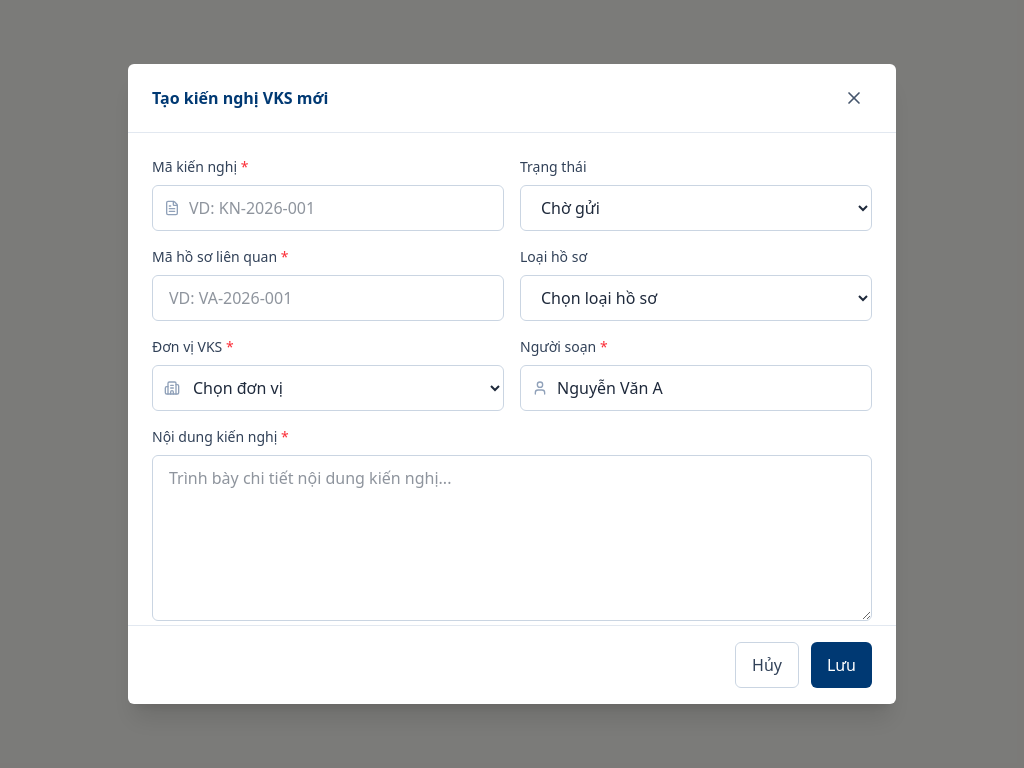
Scenario: Lưu kiến nghị VKS thất bại › lỗi mạng (không có thân phản hồi) vẫn báo thất bại
The image size is (1024, 768).
In the field with placeholder "VD: KN-2026-001": (328,208) [152,185,504,231], type "nội dung kiểm thử"
In the field with placeholder "VD: VA-2026-001": (328,298) [152,275,504,321], type "nội dung kiểm thử"
Replace the text in the field below "Người soạn" with "nội dung kiểm thử": (696,388) [520,365,872,411]
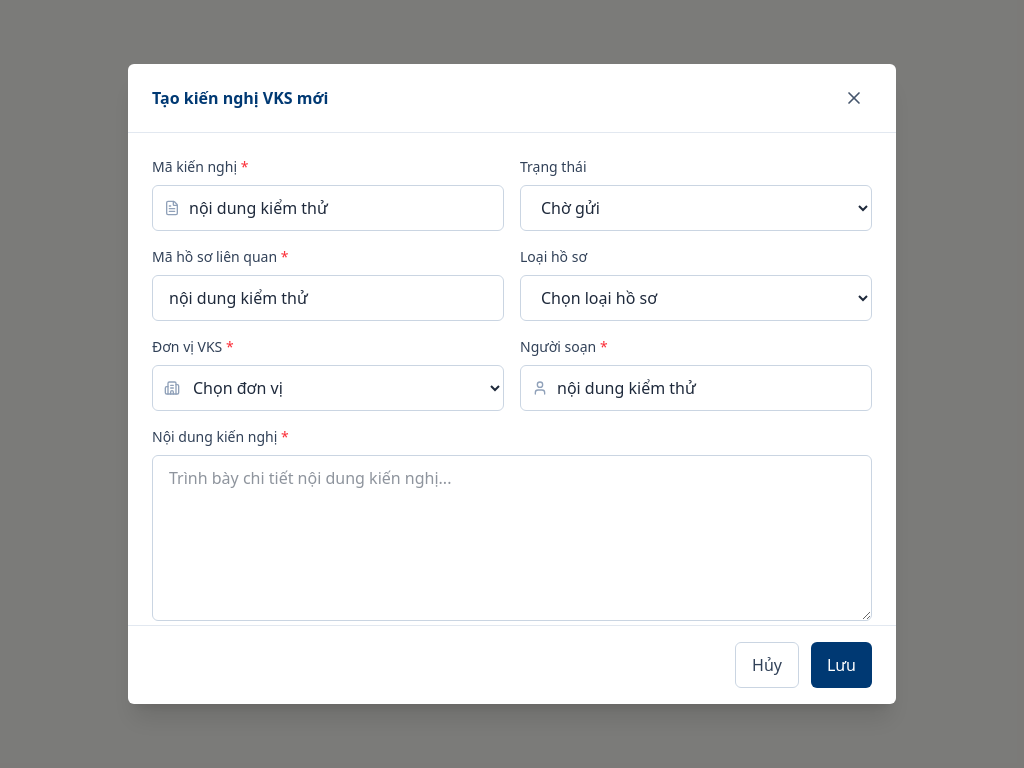
In the text box: (512,538) [152,455,872,621], type "nội dung kiểm thử"
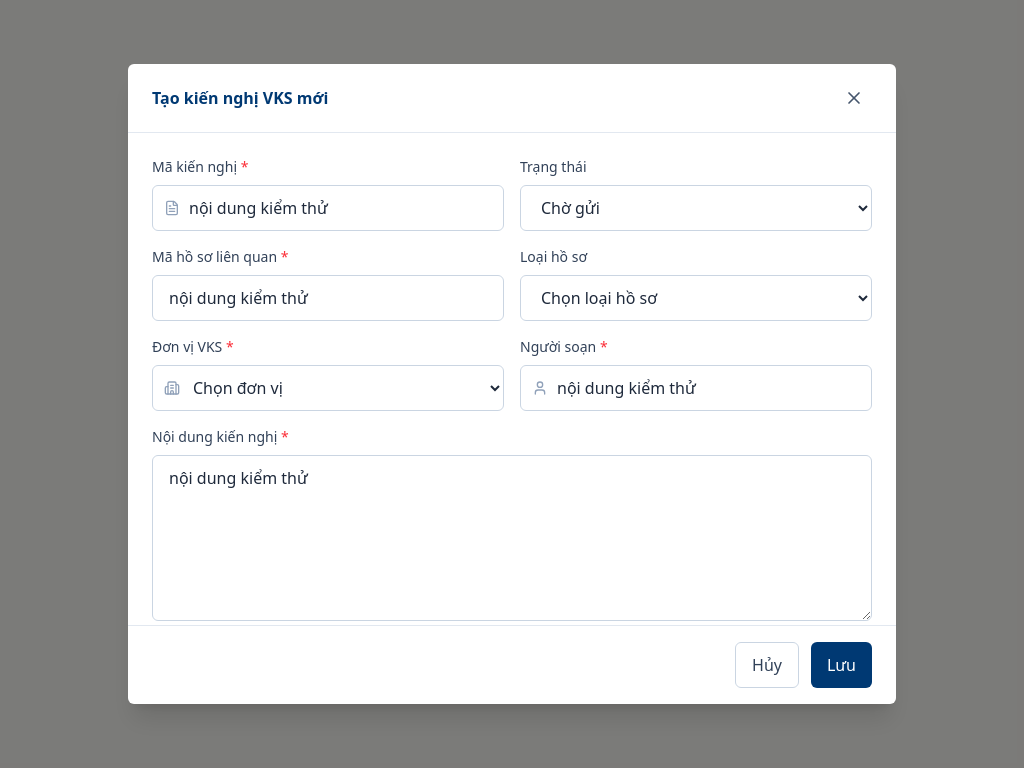
Select "Đã gửi" in the dropdown below "Trạng thái": (696,208) [520,185,872,231]
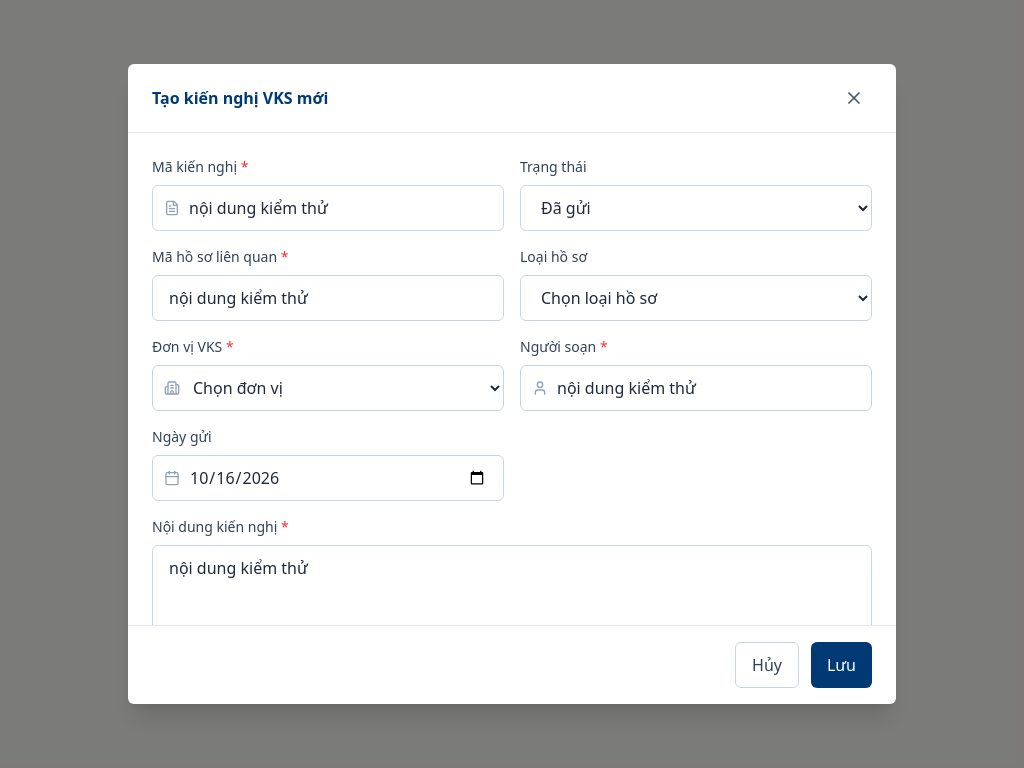
Select "Vụ án" in the dropdown below "Loại hồ sơ": (696,298) [520,275,872,321]
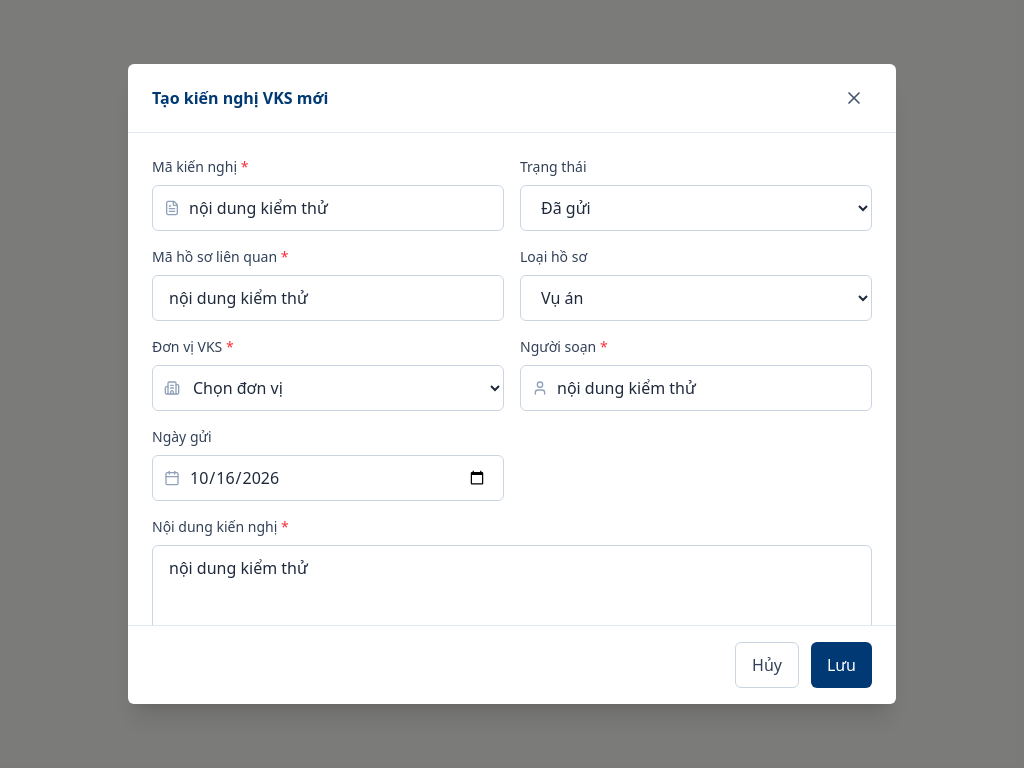
Select "Viện Kiểm sát Quận 1" in the dropdown below "Đơn vị VKS": (328,388) [152,365,504,411]
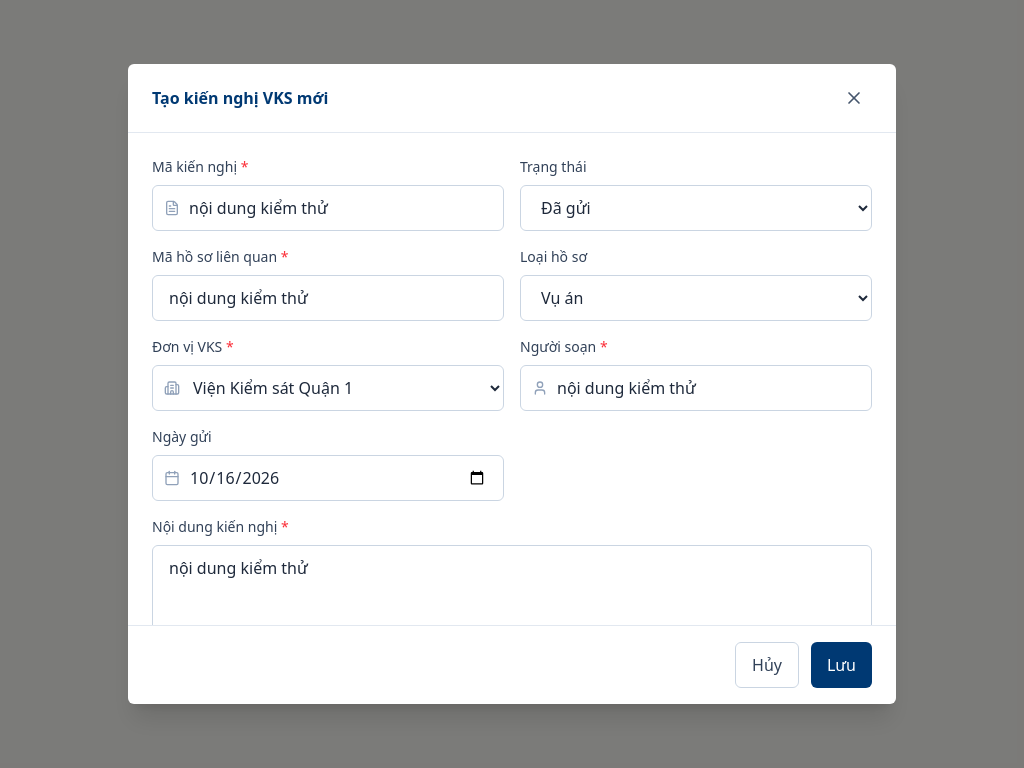
Click the button "Lưu": (841,665) [811,642,872,688]
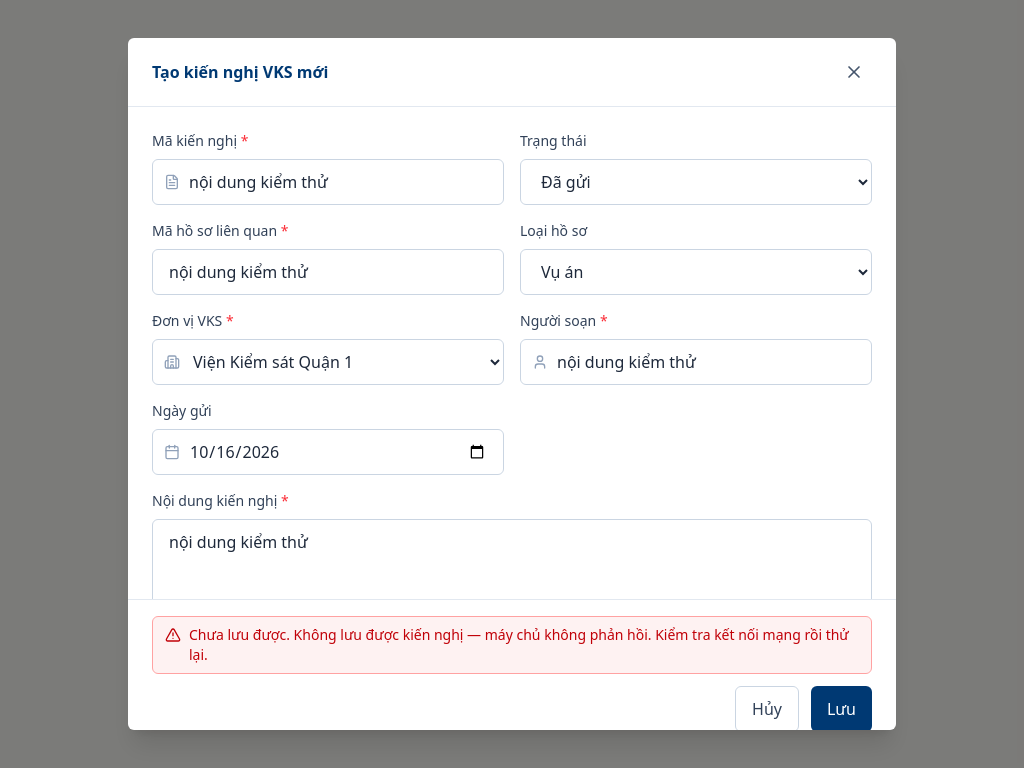
Check: the message with test id "proposal-form-error" is shown, box [152,616,872,674]
